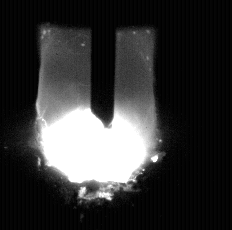arame: (92, 0, 116, 128)
poca: (36, 0, 159, 230)
